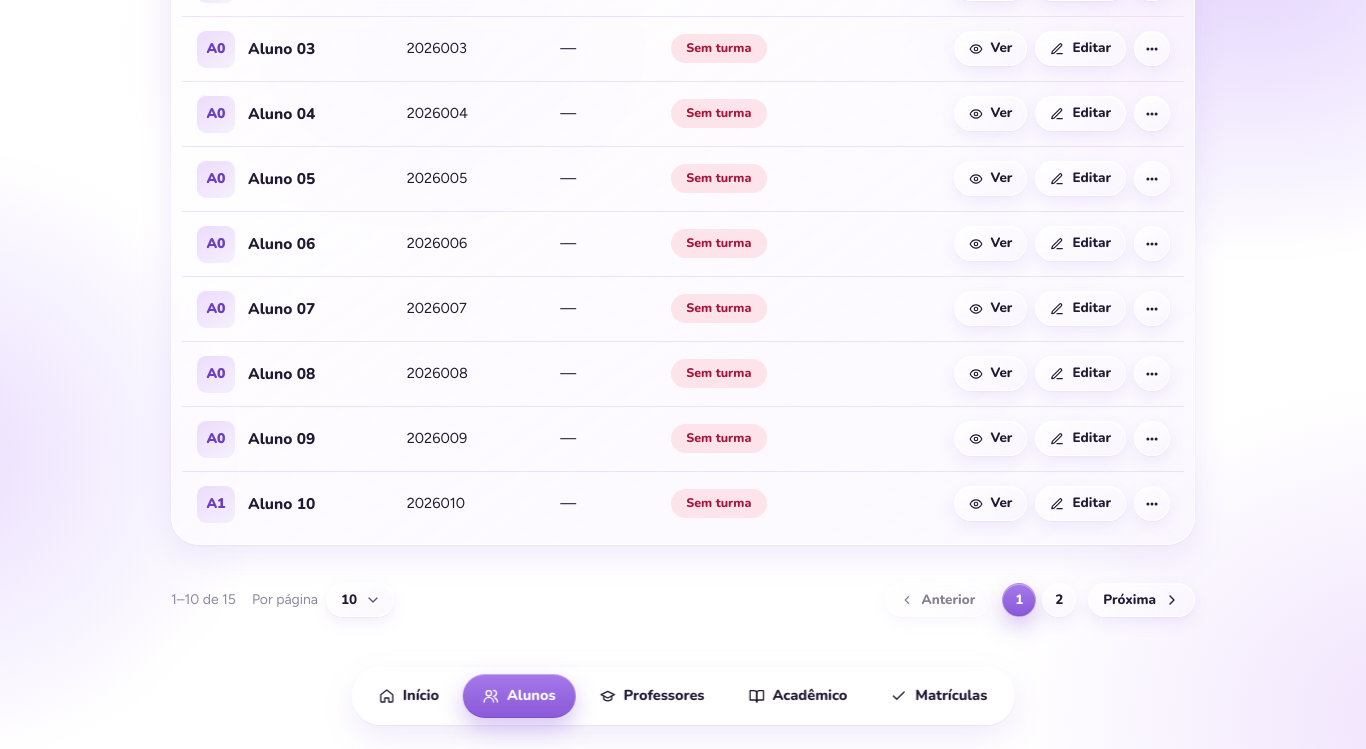
Test: Alunos › a busca pela matrícula vai ao backend depois da digitação e volta à primeira página
(page scrolled)
Click the button "Próxima".
click(1142, 600)  # box x1=1088 y1=583 x2=1195 y2=617
(page scrolled)
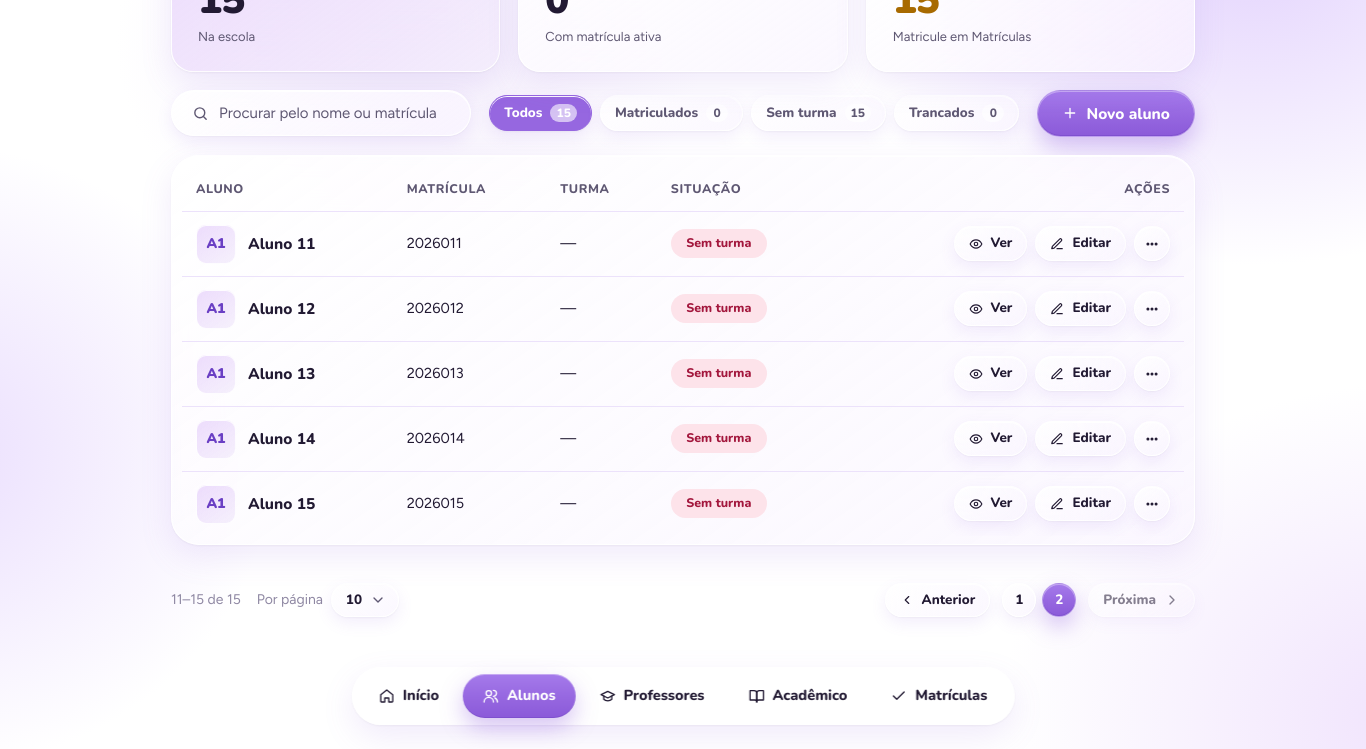
Type "2026003" into the search field labelled "Procurar pelo nome ou matrícula".
click(334, 113); type("2026003")  # box x1=219 y1=102 x2=450 y2=124
(page scrolled)
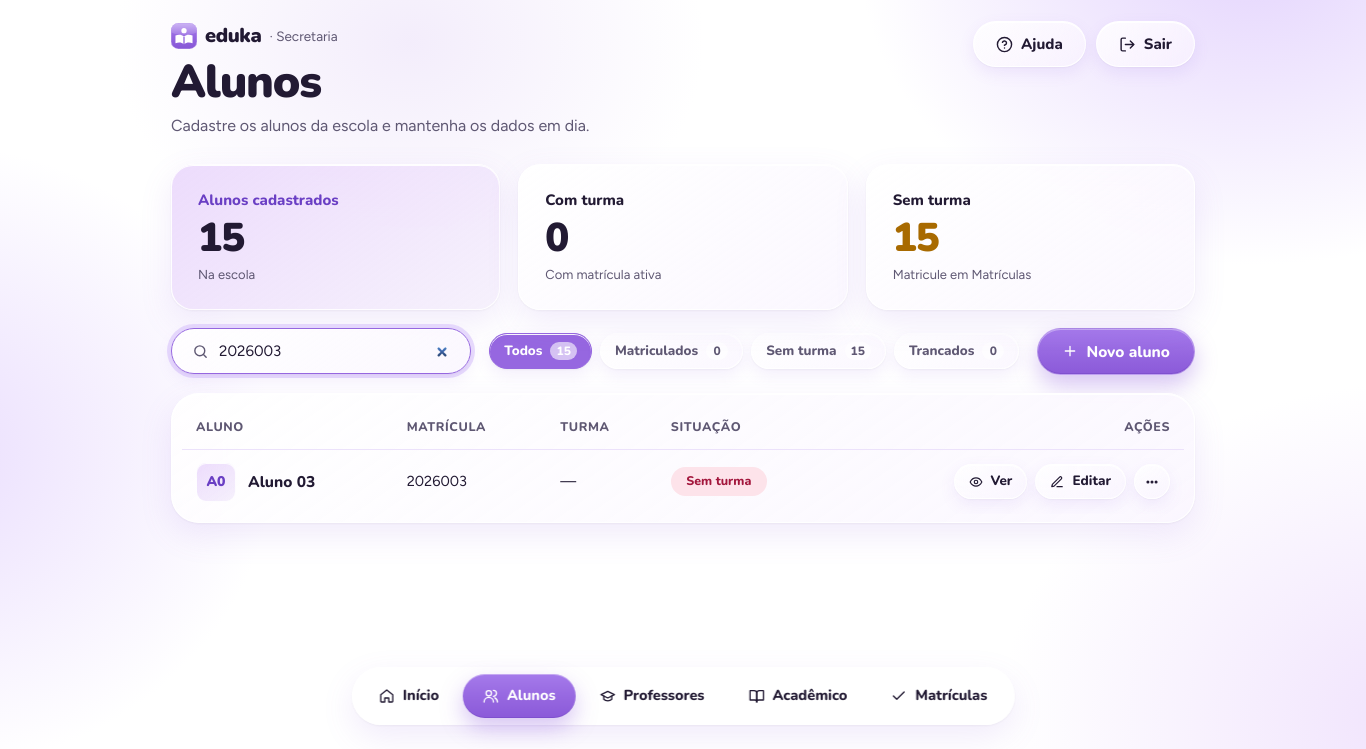
Result: the text "Aluno 03" is shown at x1=248 y1=472 x2=315 y2=492
